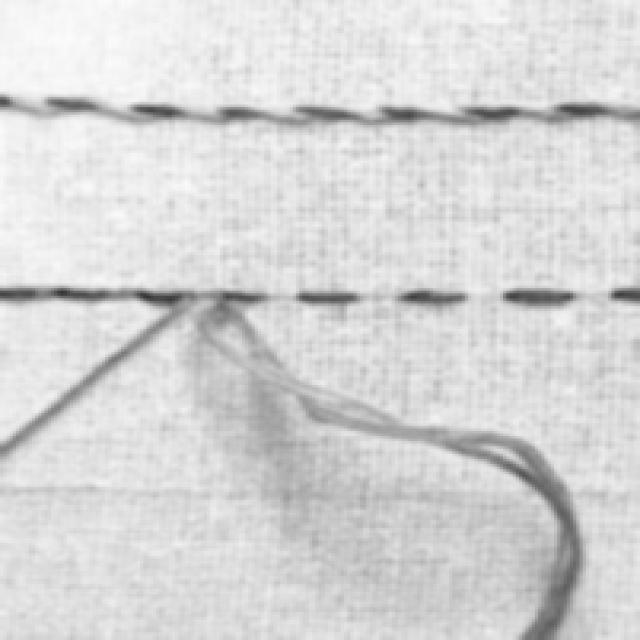stitch: (86, 95, 144, 121), (412, 103, 479, 124), (3, 93, 56, 119), (510, 100, 564, 121), (254, 103, 306, 124), (197, 289, 268, 303), (504, 289, 574, 303), (400, 289, 467, 303), (175, 101, 220, 121), (559, 100, 609, 117), (131, 103, 184, 119), (217, 103, 260, 122), (297, 105, 348, 121), (297, 290, 359, 303), (470, 104, 517, 121), (47, 96, 95, 112), (53, 286, 100, 302), (347, 103, 382, 124), (94, 286, 140, 301), (612, 96, 638, 121), (381, 104, 417, 121), (139, 290, 186, 303), (0, 287, 36, 301), (610, 286, 639, 302), (32, 285, 56, 303), (0, 89, 6, 111)
